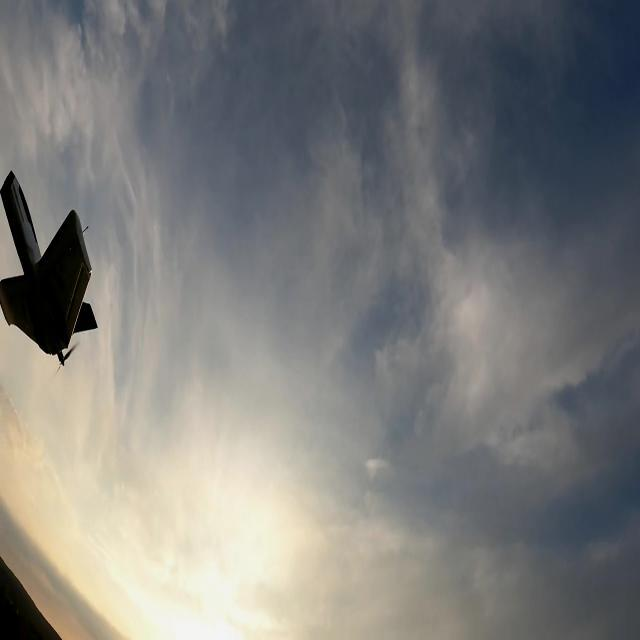iha: (32, 164, 75, 387)
